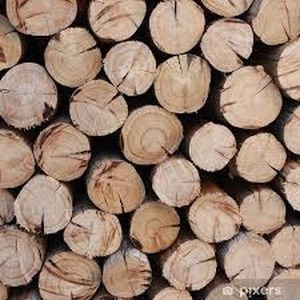log: (219, 65, 281, 130), (1, 62, 58, 127), (68, 80, 129, 139), (120, 107, 183, 164), (154, 53, 211, 115), (32, 122, 90, 182), (14, 176, 75, 233), (43, 27, 103, 84), (86, 159, 144, 213), (64, 209, 124, 259), (160, 239, 218, 290), (102, 41, 156, 94), (222, 234, 274, 289), (149, 1, 205, 52), (41, 251, 99, 300), (128, 202, 181, 255), (202, 18, 254, 72), (187, 192, 240, 242), (150, 157, 201, 208), (237, 132, 286, 184), (1, 229, 43, 288), (188, 123, 236, 174), (6, 1, 78, 34), (86, 1, 146, 40), (103, 247, 149, 295), (239, 187, 283, 234), (1, 130, 33, 188), (252, 1, 300, 37)
